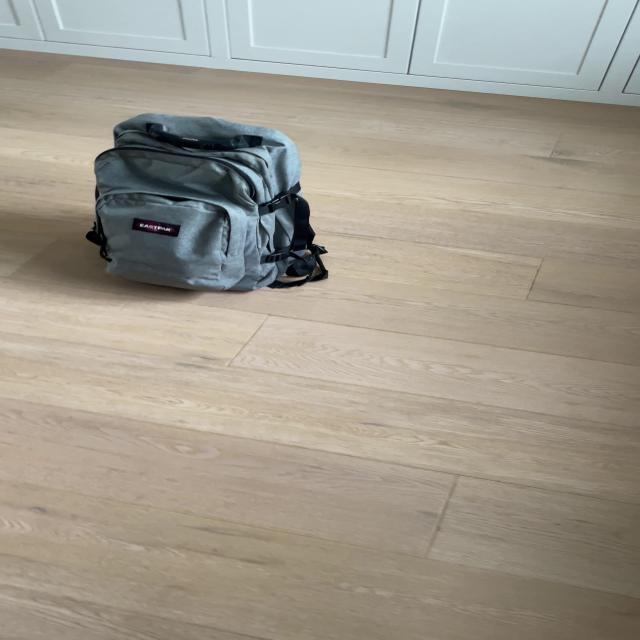backpack: (75, 105, 336, 298)
